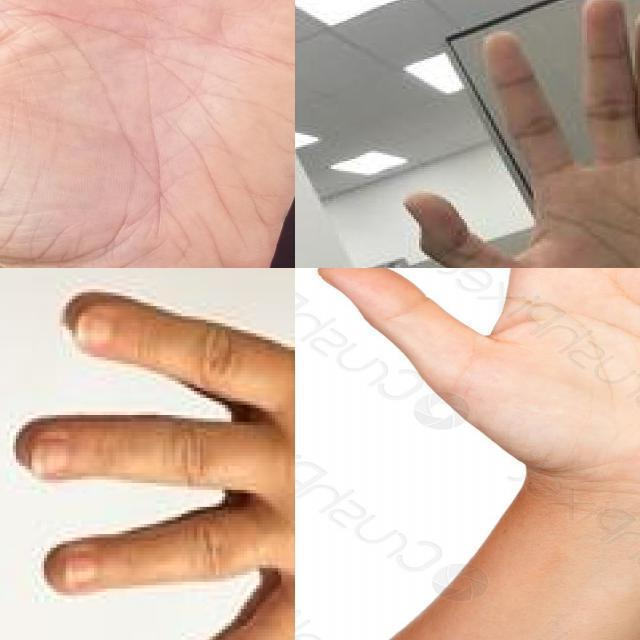hand: (14, 268, 295, 640), (0, 0, 295, 268), (317, 268, 640, 495), (406, 0, 640, 268)
